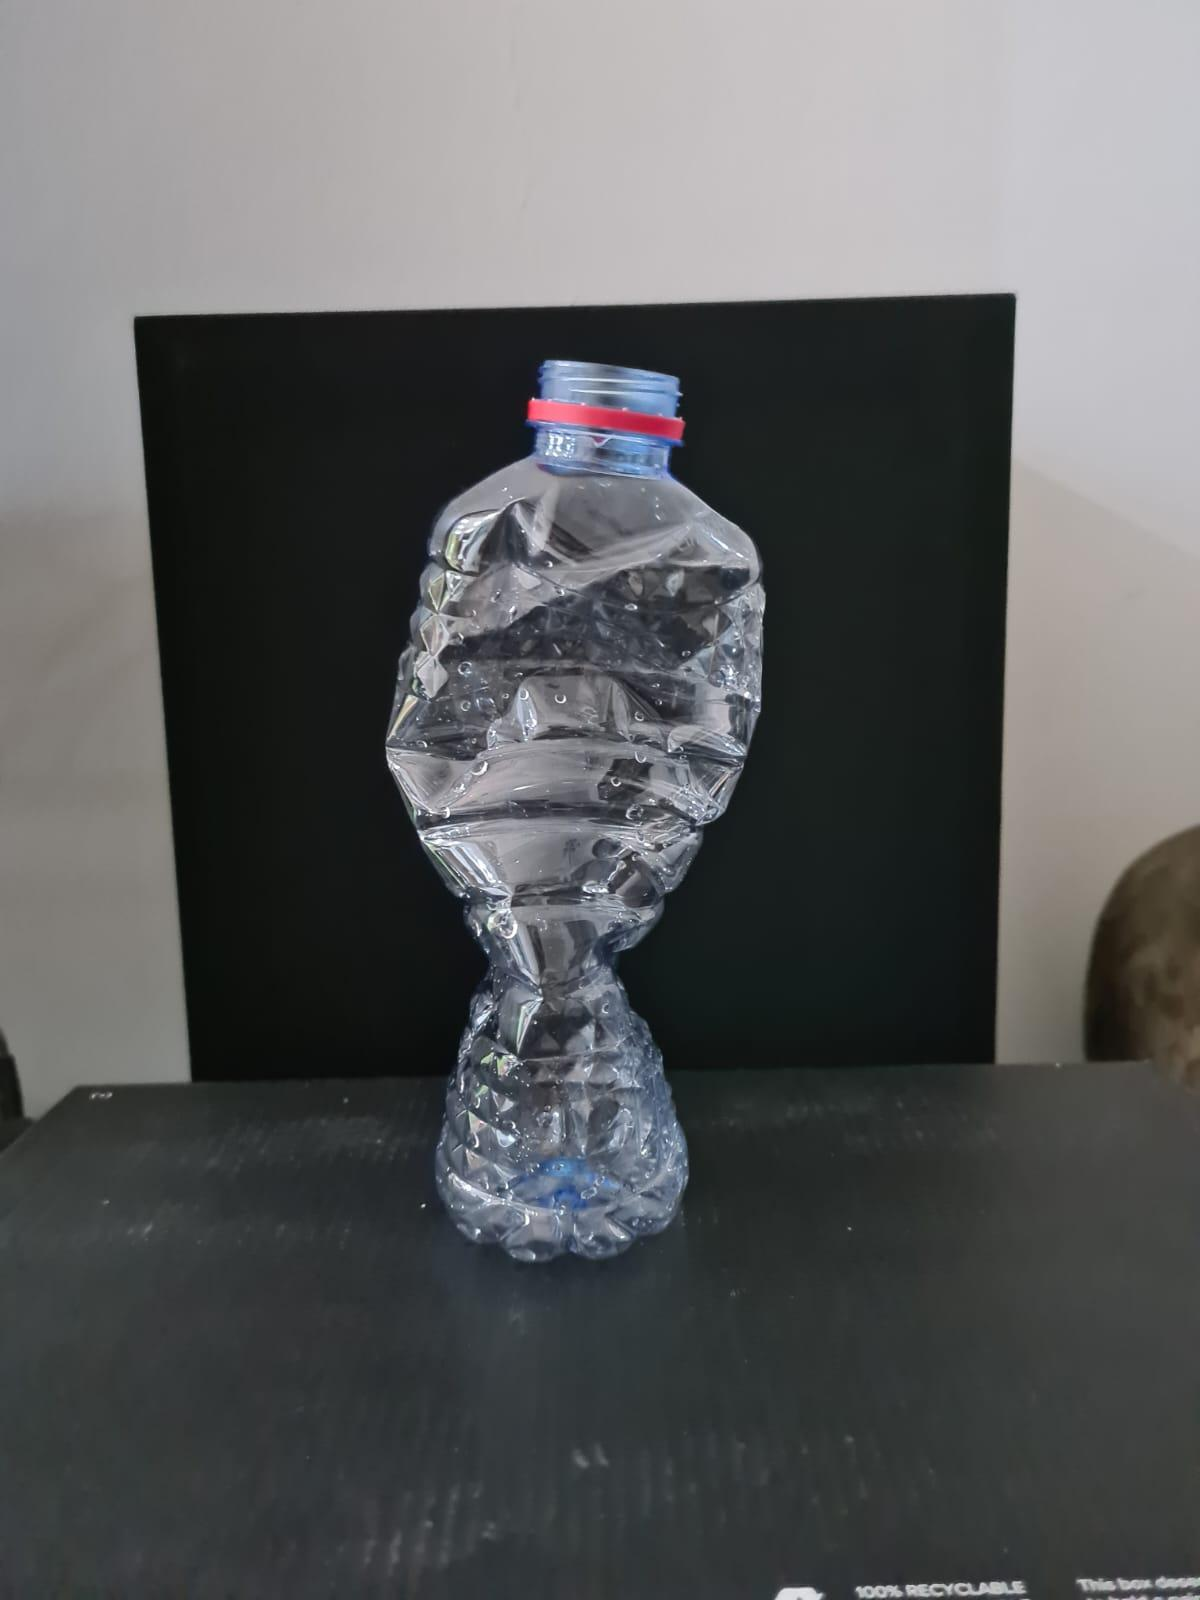bottle: (376, 328, 780, 1294)
